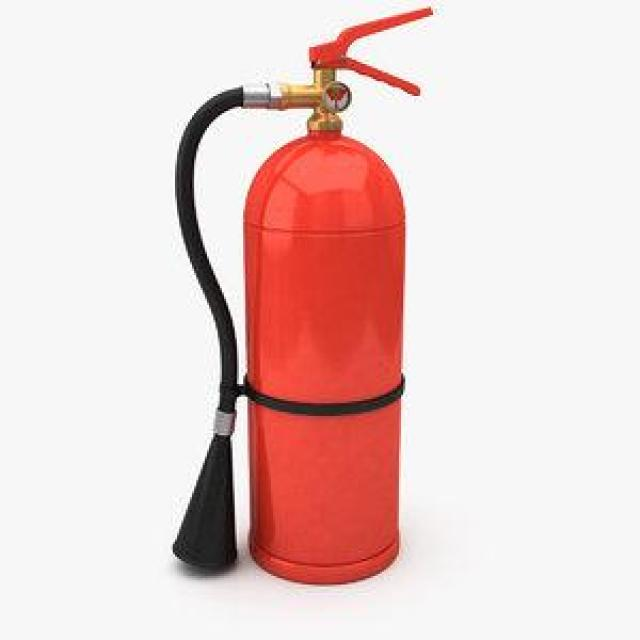fire_extinguisher: (163, 3, 436, 590)
